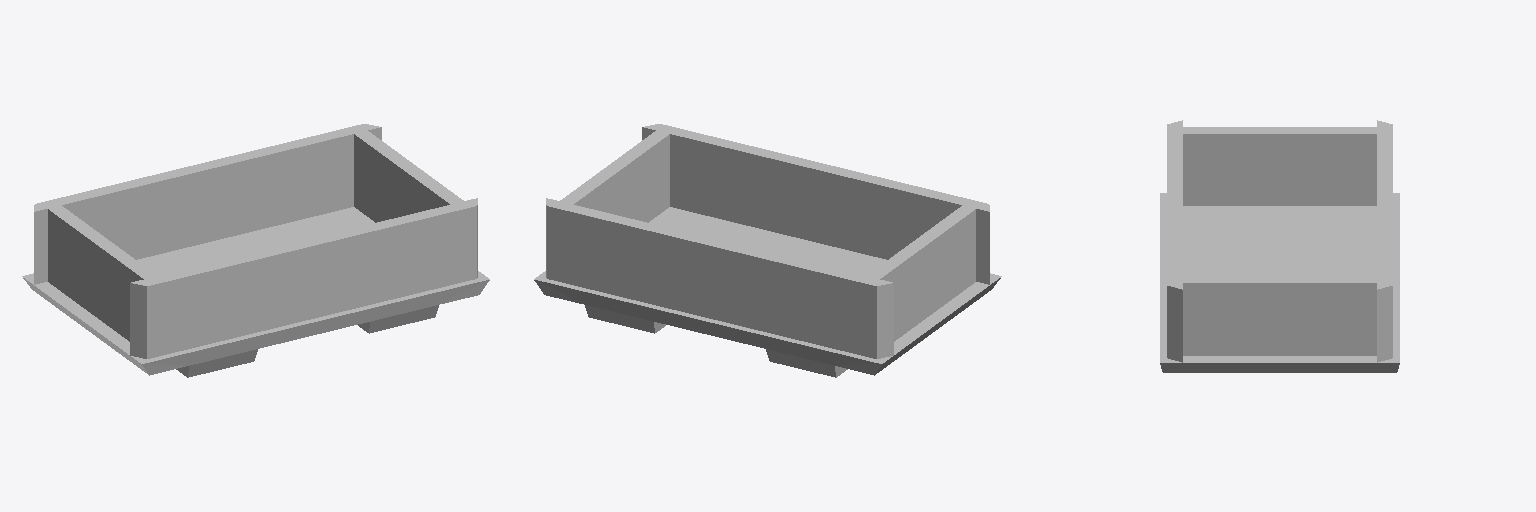
File: Crate-05.obj
3 renders of one model, left to right at view 1: azimuth 30°, elevation 25°; view 2: azimuth 150°, elevation 25°; view 3: azimuth 270°, elevation 25°, orthographic.
Visible parts, largest first — view 1: Crate_05; view 2: Crate_05; view 3: Crate_05.
Boxes of the visible parts, box(x1,y1,x2,y2) form: Crate_05: box(22, 124, 489, 377); Crate_05: box(534, 124, 1001, 377); Crate_05: box(1160, 120, 1399, 372).
Size of the model in its own units: 0.375 by 0.105 by 0.2242.